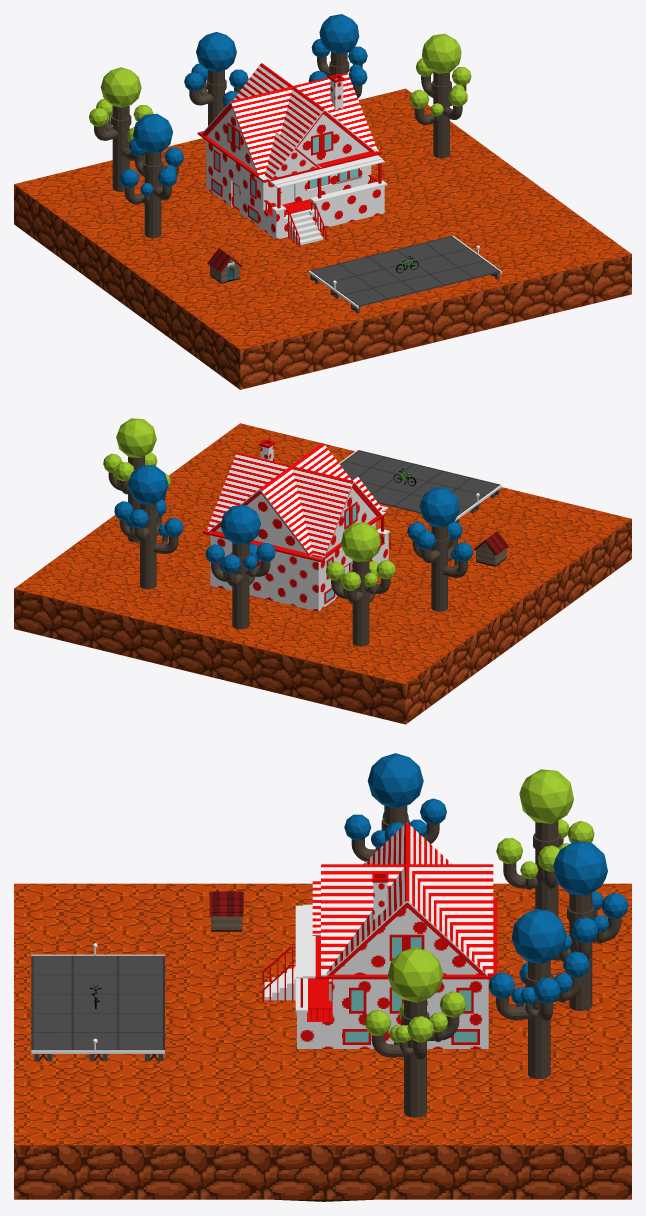
3 renders of one model, top to bottom at view 1: azimuth 30°, elevation 25°; view 2: azimuth 150°, elevation 25°; view 3: azimuth 270°, elevation 25°, orthographic. The views are drawn at different scales.
Parts seen in each view (by area): view 1: Cube.001, Cube.196, OBJRANDOM_DOGHOUSE; view 2: Cube.001, Cube.196, OBJRANDOM_DOGHOUSE; view 3: Cube.001, Cube.196, OBJRANDOM_DOGHOUSE.
Part boxes in pixels (bbox=[...]): Cube.001: bbox=[14, 14, 631, 389]; Cube.196: bbox=[197, 63, 387, 246]; OBJRANDOM_DOGHOUSE: bbox=[207, 248, 242, 283]; Cube.001: bbox=[14, 418, 631, 724]; Cube.196: bbox=[202, 439, 390, 611]; OBJRANDOM_DOGHOUSE: bbox=[473, 531, 508, 566]; Cube.001: bbox=[14, 753, 631, 1199]; Cube.196: bbox=[262, 823, 497, 1048]; OBJRANDOM_DOGHOUSE: bbox=[209, 891, 243, 931].
Bounding box in the file's own units: 4000 × 1730 × 4000.
Materials: 31 (5 with a texture image).
